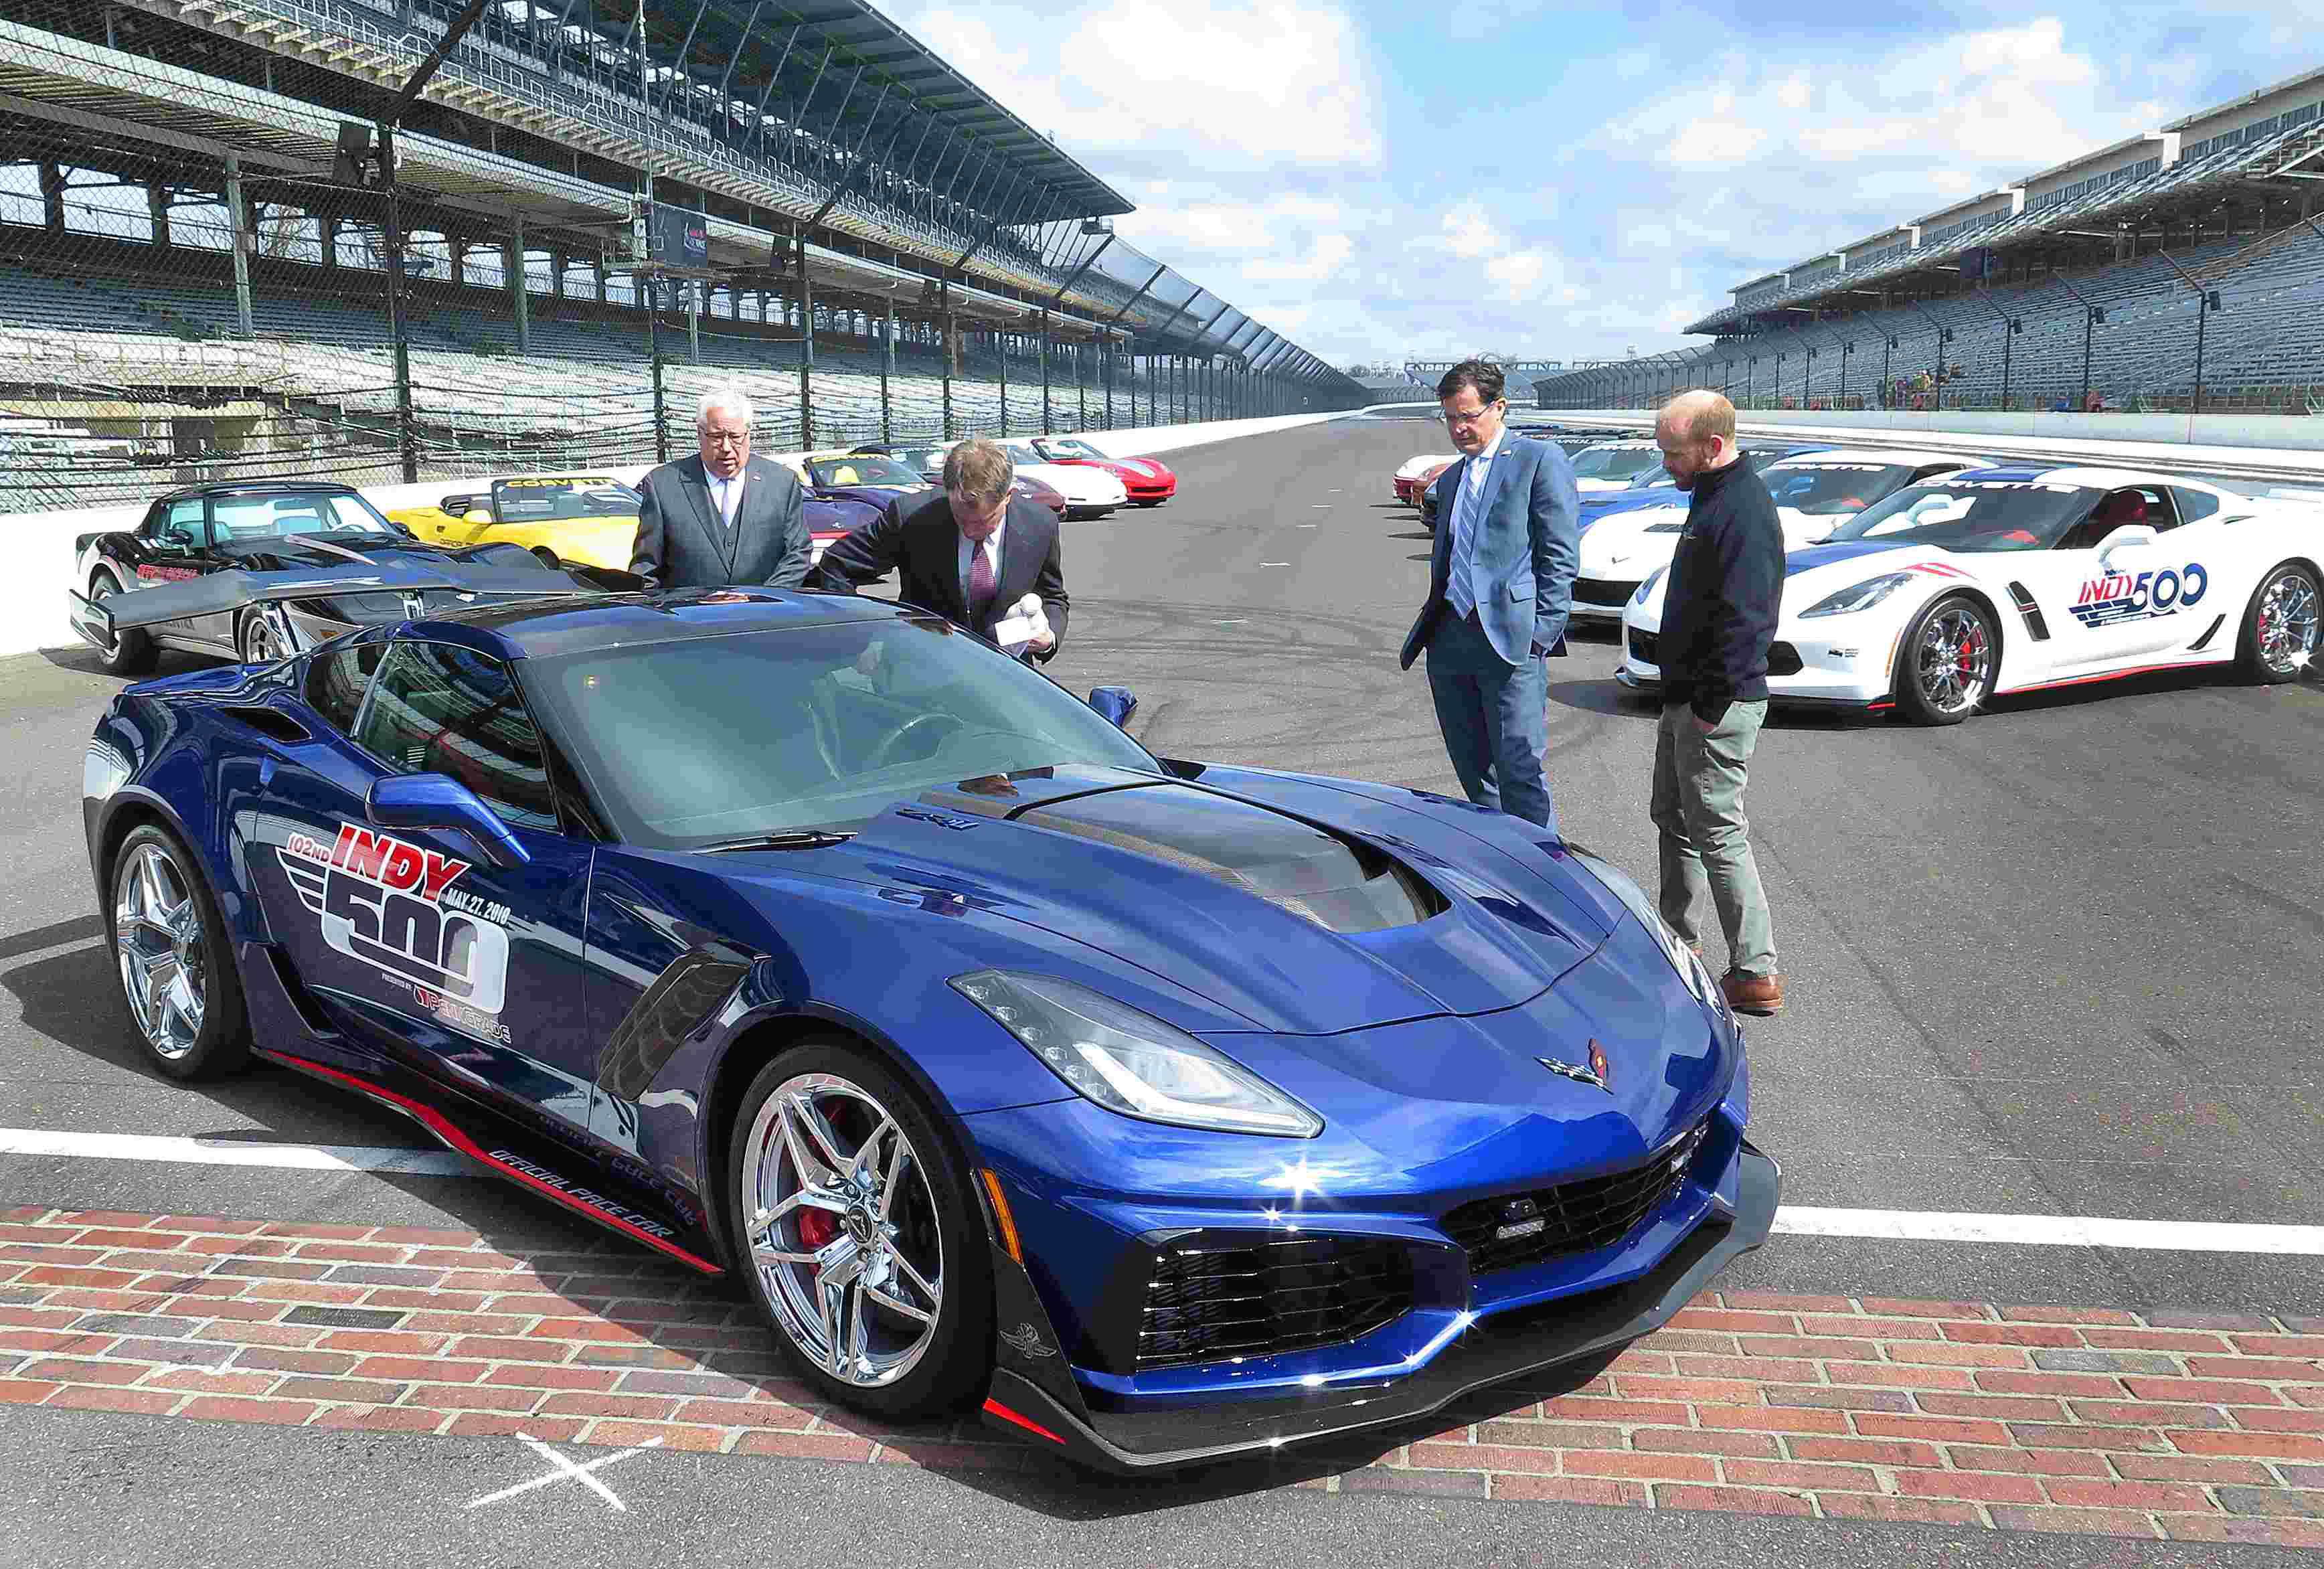car: (53, 576, 1900, 1473), (1587, 459, 2324, 737), (53, 469, 580, 699), (1518, 441, 1951, 625), (403, 452, 729, 623), (1501, 419, 1771, 550), (951, 429, 1205, 506)
